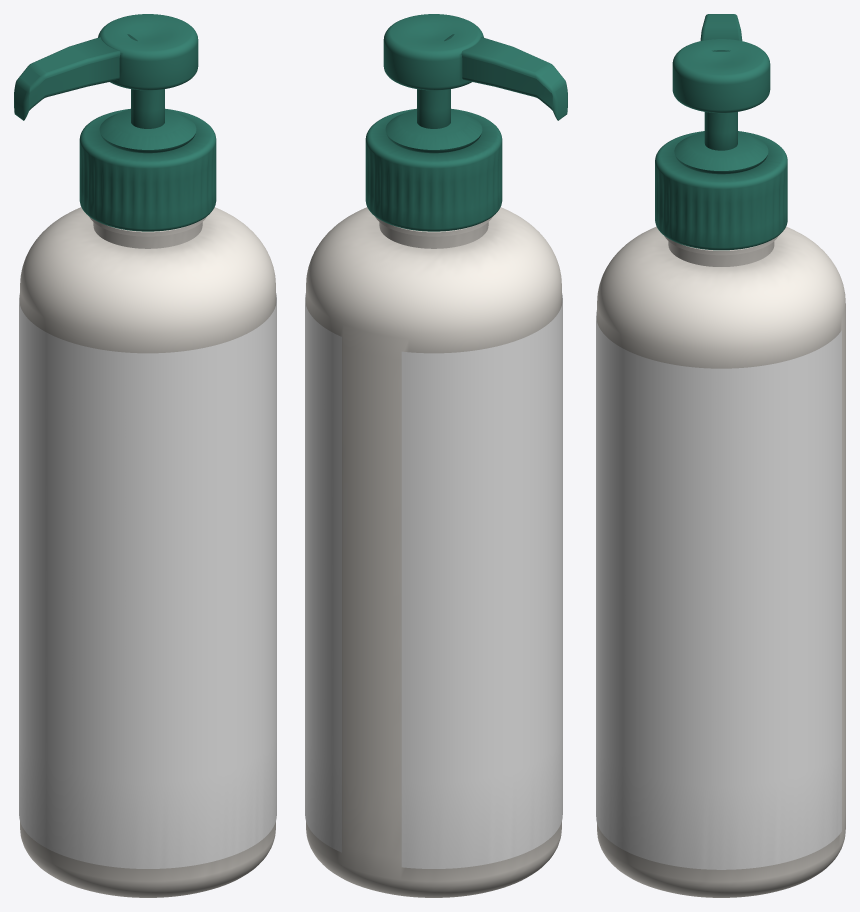
The model's file is oligo-calme.glb.
3 renders of one model, left to right at view 1: azimuth 30°, elevation 25°; view 2: azimuth 150°, elevation 25°; view 3: azimuth 270°, elevation 25°, orthographic. The views are drawn at different scales.
Visible parts, largest first — view 1: etiquette, corps, bague, tete, bec, tige; view 2: etiquette, corps, bague, tete, bec, tige; view 3: etiquette, corps, bague, tete, tige, bec.
Part boxes in pixels (x1,y1,x2,y2): etiquette: [19, 293, 276, 868]; corps: [20, 207, 275, 897]; bague: [79, 108, 216, 231]; tete: [98, 14, 198, 90]; bec: [14, 34, 137, 120]; tige: [131, 89, 164, 128]; etiquette: [305, 293, 562, 868]; corps: [306, 207, 561, 897]; bague: [365, 108, 502, 231]; tete: [383, 14, 483, 90]; bec: [444, 34, 567, 120]; tige: [417, 89, 450, 128]; etiquette: [596, 310, 841, 869]; corps: [597, 226, 845, 897]; bague: [655, 131, 787, 250]; tete: [672, 39, 770, 113]; tige: [704, 112, 737, 150]; bec: [700, 14, 742, 51].
Bounding box in the file's own units: 0.5858 × 1.91 × 0.5418.
